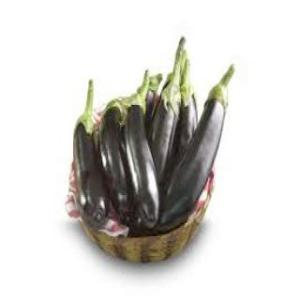eggplant: (156, 79, 228, 228), (100, 90, 132, 216), (130, 94, 160, 226), (73, 112, 109, 222)
